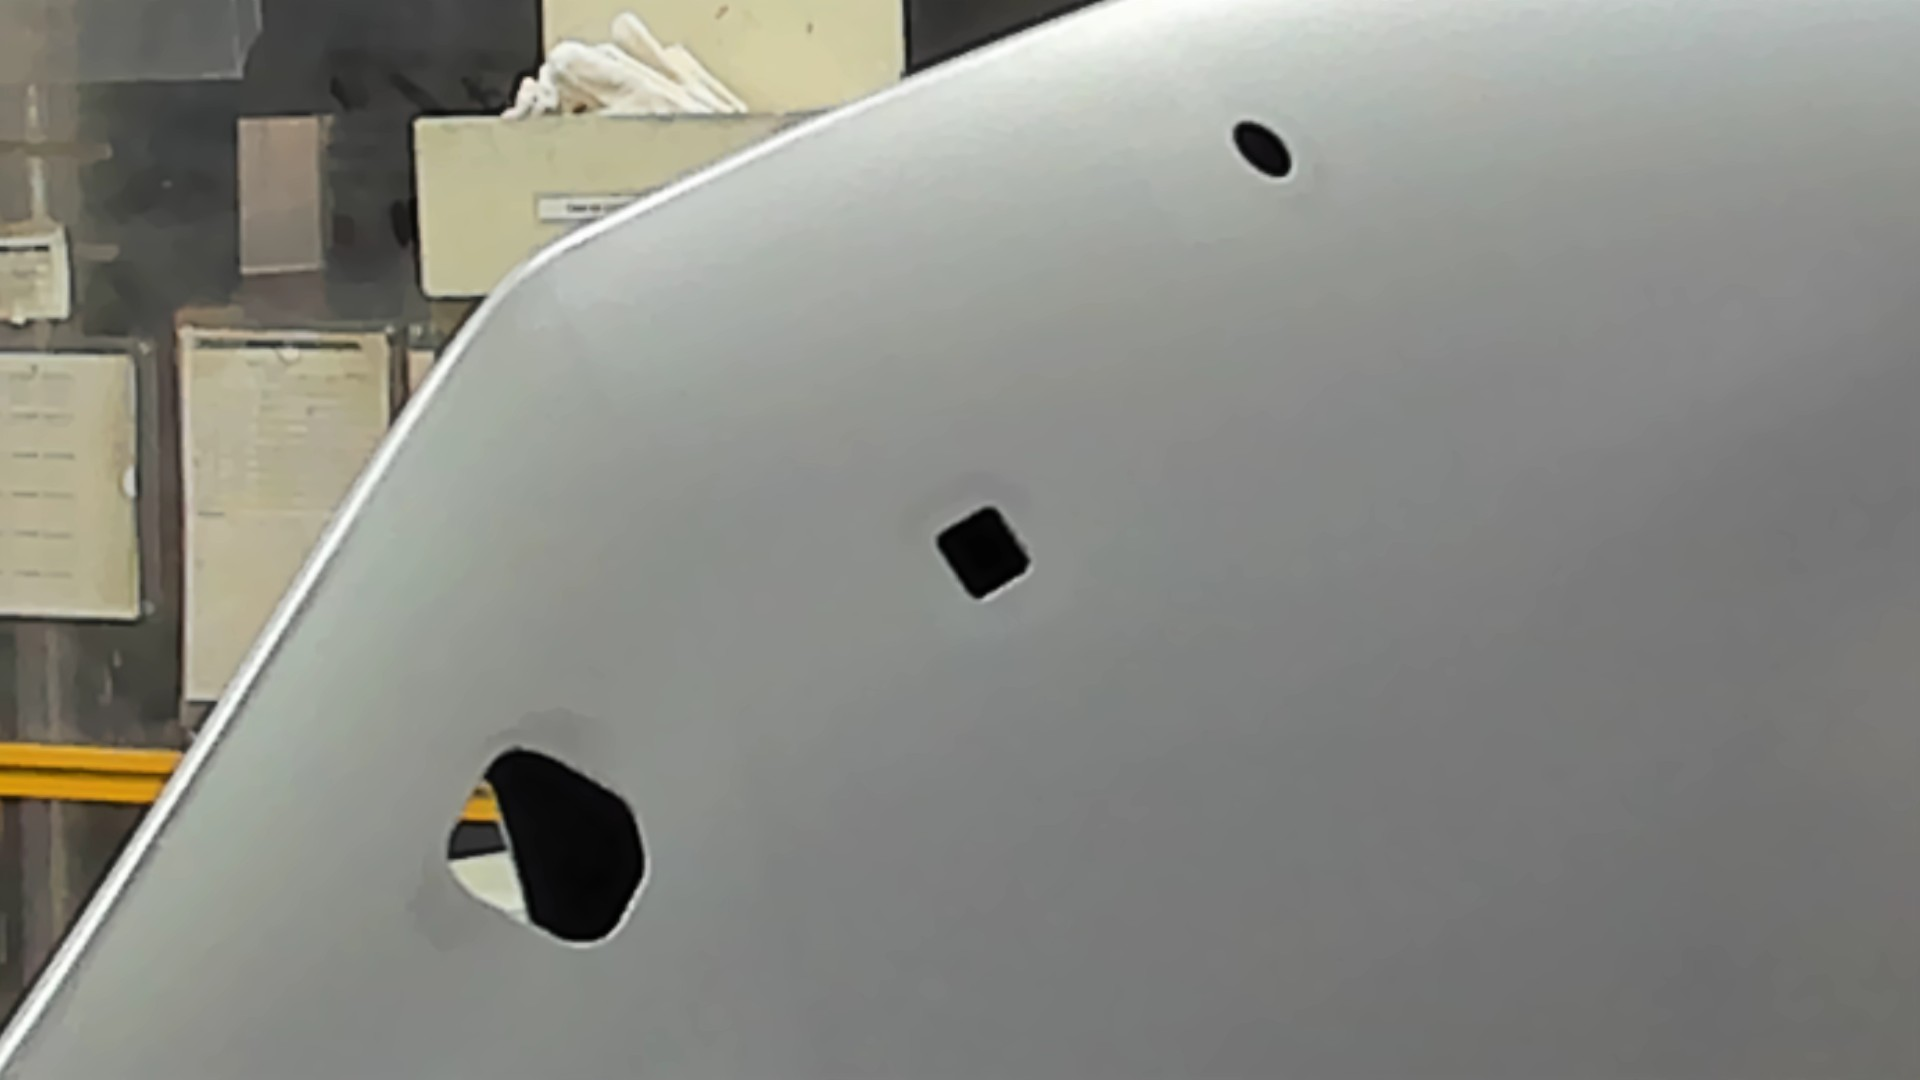chico: (1226, 117, 1298, 186)
grande: (438, 740, 655, 957)
mediano: (927, 500, 1040, 615)
